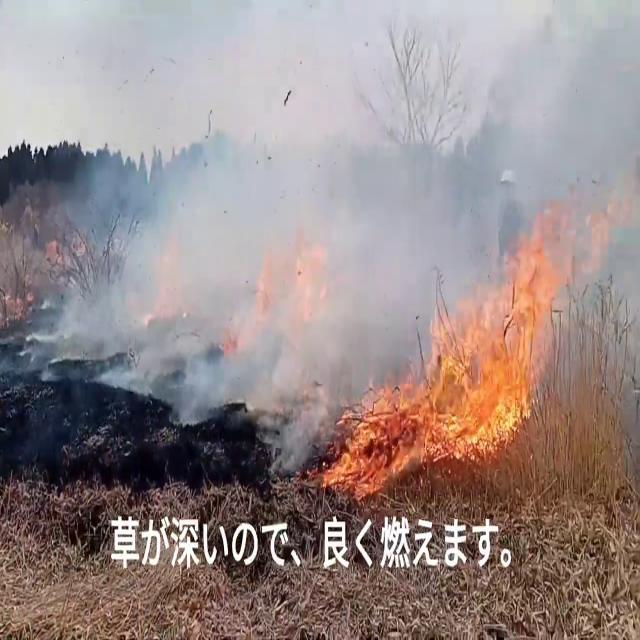Fire: (344, 234, 566, 486)
Smoke: (11, 6, 634, 445)
